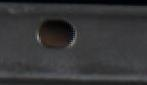holes: (36, 17, 78, 51)
